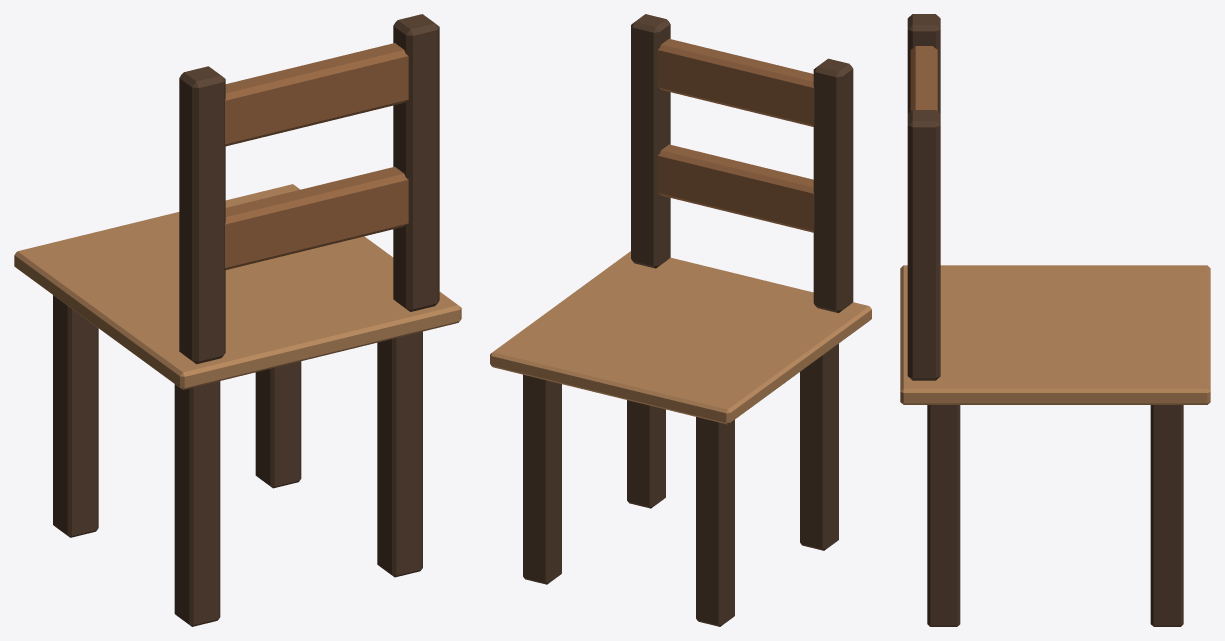
Rendered from chair.glb.
3 renders of one model, left to right at view 1: azimuth 30°, elevation 25°; view 2: azimuth 150°, elevation 25°; view 3: azimuth 270°, elevation 25°, orthographic. The views are drawn at different scales.
Parts seen in each view (by area): view 1: Alfa_chair; view 2: Alfa_chair; view 3: Alfa_chair.
Part boxes in pixels (x1,y1,x2,y2): Alfa_chair: (14,14,461,626); Alfa_chair: (490,14,871,626); Alfa_chair: (900,14,1210,626).
Bounding box in the file's own units: 0.5 × 0.94 × 0.52.
